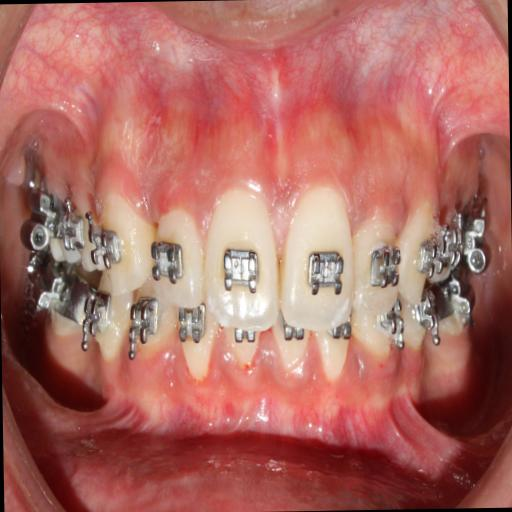correct_brace: (304, 240, 348, 300), (216, 247, 261, 304), (87, 220, 126, 280), (149, 231, 186, 287), (414, 228, 449, 284), (366, 242, 402, 292)
incorrect_brace: (152, 196, 206, 322), (348, 208, 404, 314)
